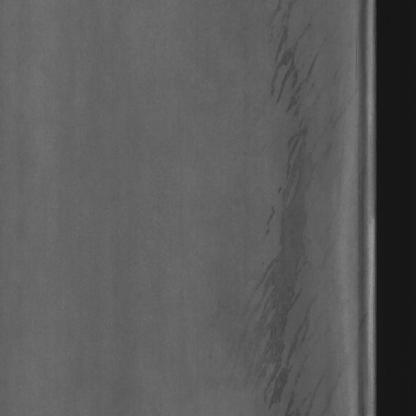water_spot: (249, 6, 330, 416)
